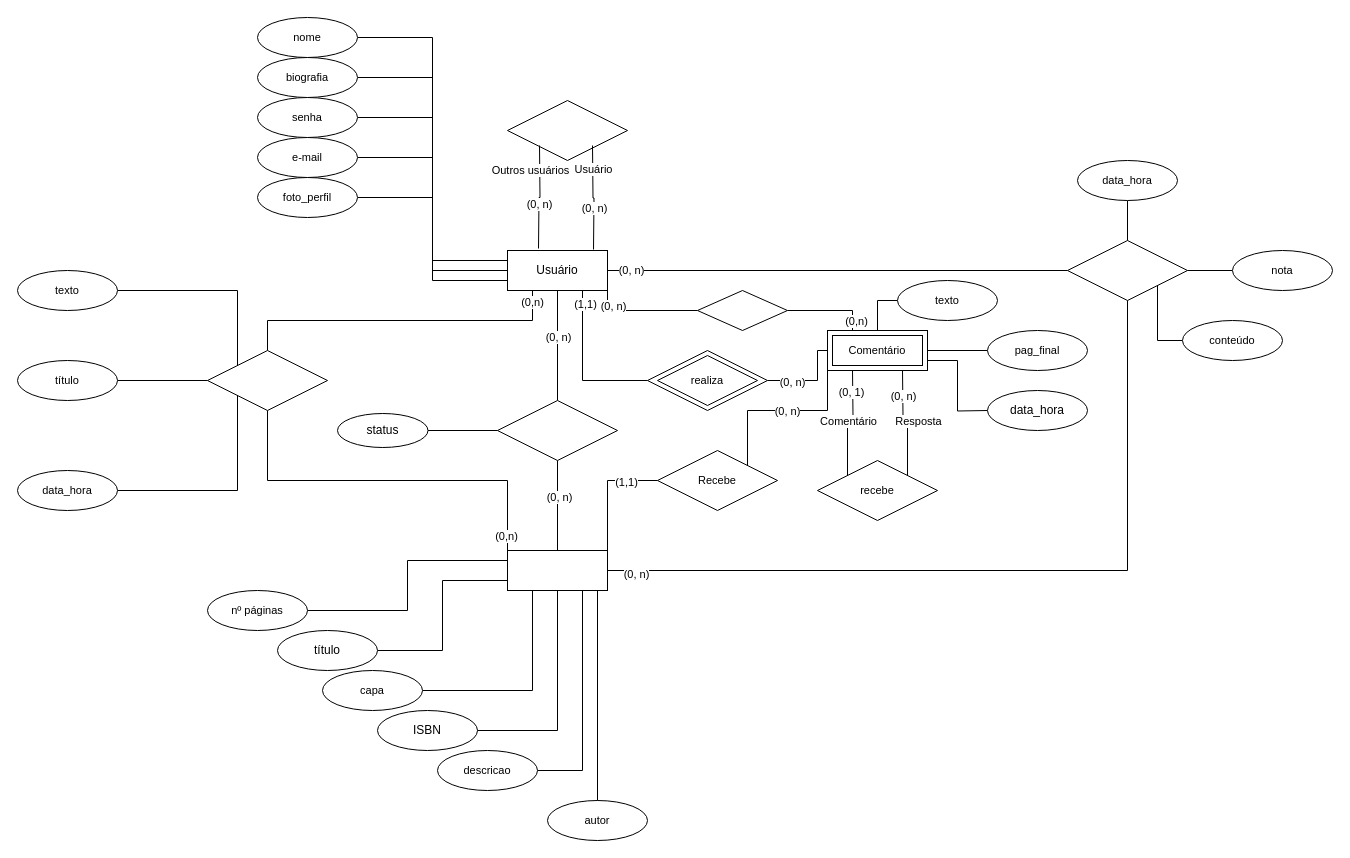
This 1350x858 diagram has some shape labels left out. Here are the shapes that lost their labels. From the top down, the centre of each, then its label:
At point 567,130: "Seguir".
At point 1127,270: "avaliação".
At point 742,310: "curte".
At point 267,380: "resenha".
At point 557,430: "interage".
At point 557,570: "Livro".
